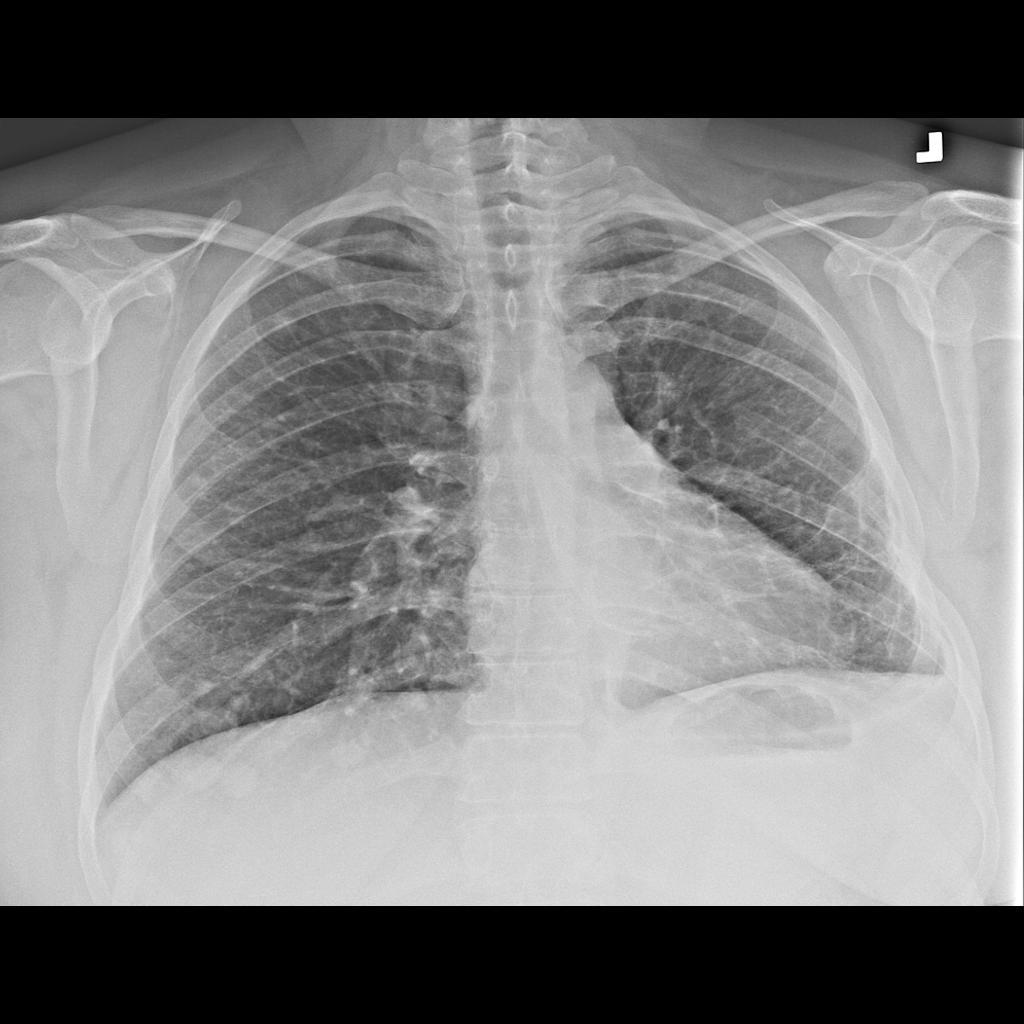Nodule: (271, 311, 300, 336)
